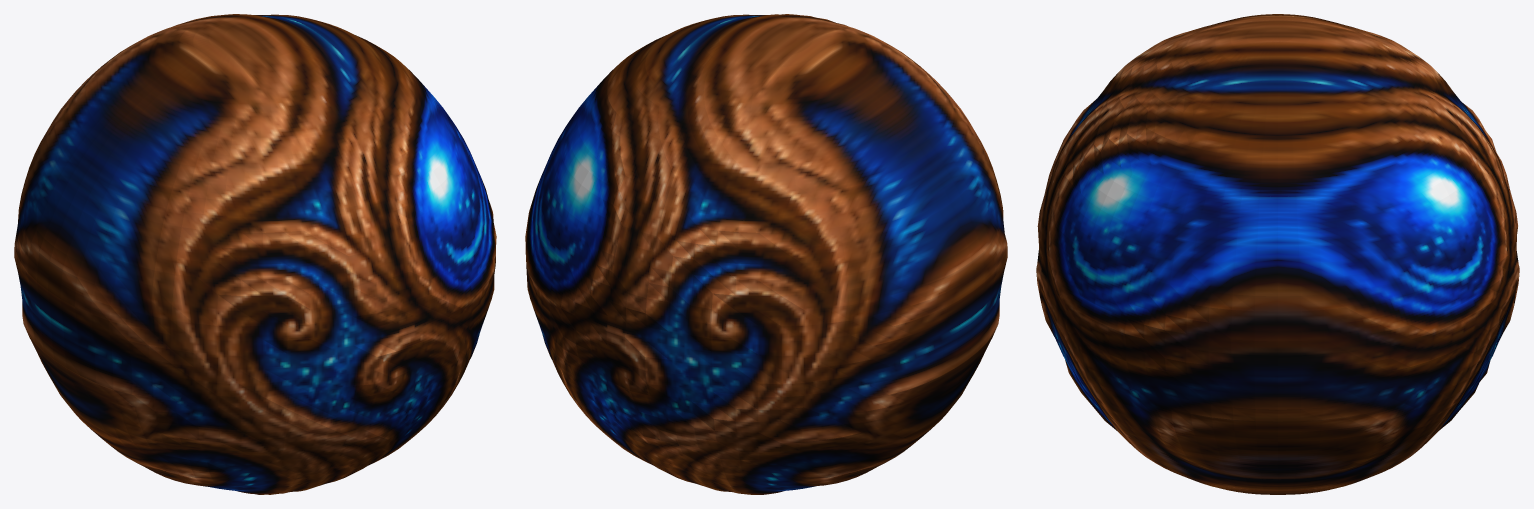
File: orb_t1.obj
The picture shows the model from 3 angles, left to right: view 1: azimuth 30°, elevation 25°; view 2: azimuth 150°, elevation 25°; view 3: azimuth 270°, elevation 25°; orthographic projection.
Parts seen in each view (by area): view 1: carved_orb; view 2: carved_orb; view 3: carved_orb.
Part boxes in pixels (x1,y1,x2,y2): carved_orb: (14, 14, 496, 494); carved_orb: (525, 14, 1007, 494); carved_orb: (1036, 14, 1519, 494).
Size of the model in its own units: 111 by 112 by 112.
Materials: 1 (1 with a texture image).
